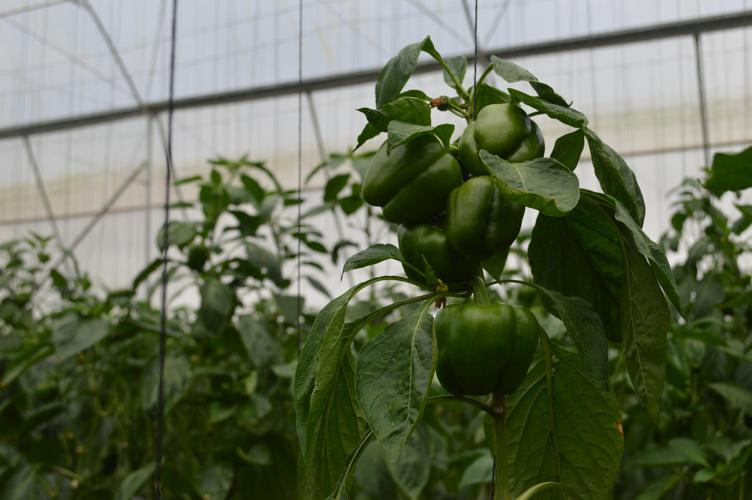BellPepper: (422, 298, 561, 402), (352, 126, 458, 220), (445, 178, 532, 253), (455, 98, 539, 174), (385, 225, 470, 299)
